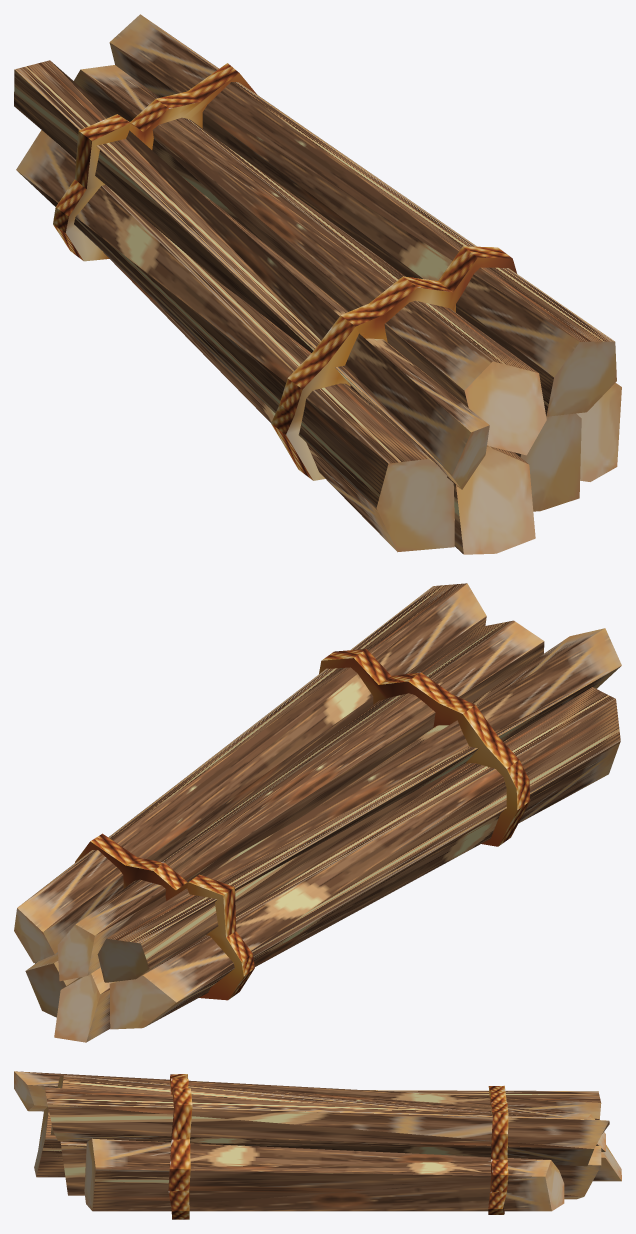
Rendered from DJG_BoundTreeBranches.fbx.
The picture shows the model from 3 angles, top to bottom: view 1: azimuth 30°, elevation 25°; view 2: azimuth 150°, elevation 25°; view 3: azimuth 270°, elevation 25°; orthographic projection. The views are drawn at different scales.
Parts seen in each view (by area): view 1: Bound tree branches; view 2: Bound tree branches; view 3: Bound tree branches.
Part boxes in pixels (<box>): Bound tree branches: <box>14,14,621,554</box>; Bound tree branches: <box>14,583,621,1042</box>; Bound tree branches: <box>14,1071,621,1219</box>.
Size of the model in its own units: 0.1666 by 0.1077 by 0.5314.
Materials: 1 (1 with a texture image).
